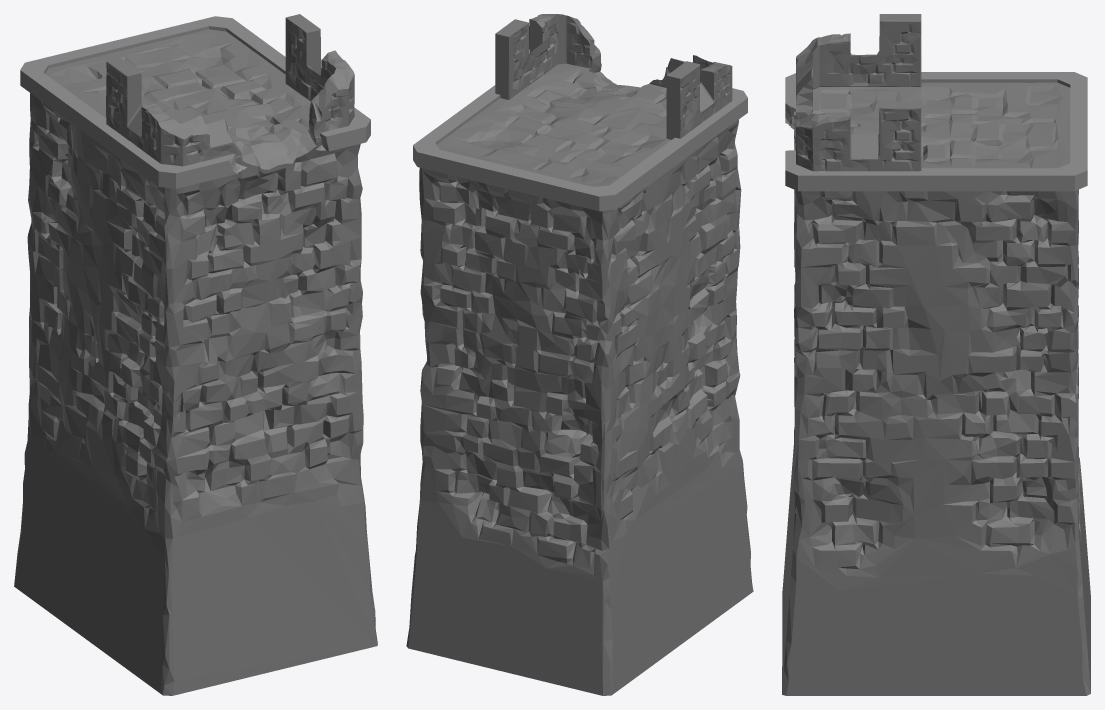
Rendered from castle_battlement_corner_c_destroyed.FBX.
3 views of the same model, side by side, from view 1: azimuth 30°, elevation 25°; view 2: azimuth 150°, elevation 25°; view 3: azimuth 270°, elevation 25° (orthographic). The views are drawn at different scales.
Visible parts, largest first — view 1: castle_battlement_corner_c_destroyed; view 2: castle_battlement_corner_c_destroyed; view 3: castle_battlement_corner_c_destroyed.
Boxes of the visible parts, bbox=[...] form: castle_battlement_corner_c_destroyed: bbox=[14, 14, 377, 695]; castle_battlement_corner_c_destroyed: bbox=[406, 14, 753, 695]; castle_battlement_corner_c_destroyed: bbox=[782, 14, 1090, 695].
Size of the model in its own units: 4.33 by 11.28 by 5.41.
